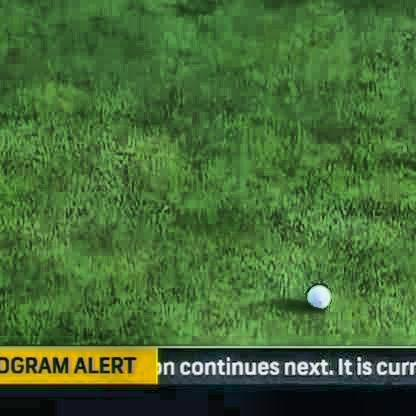golfball: (301, 277, 326, 307)
